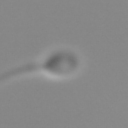normal: (1, 58, 40, 88)
